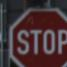Stop sign: (0, 0, 66, 66)
